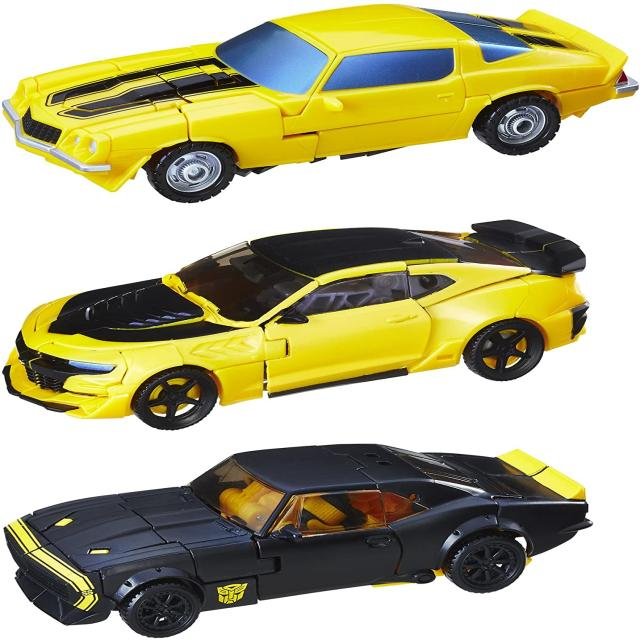Car: (2, 3, 638, 204), (2, 218, 590, 431), (3, 442, 593, 638)
